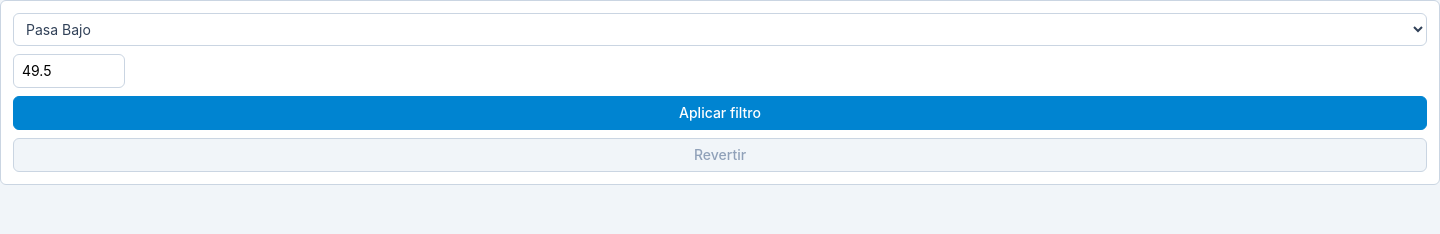
it: FilterPanel › AC-13: ingresar una ventana no entera/no positiva deshabilita "Aplicar filtro"
The image size is (1440, 234).
Step 1. Select "Media Móvil" in the dropdown named "Tipo de filtro" → (720, 30), box [13, 13, 1427, 46]
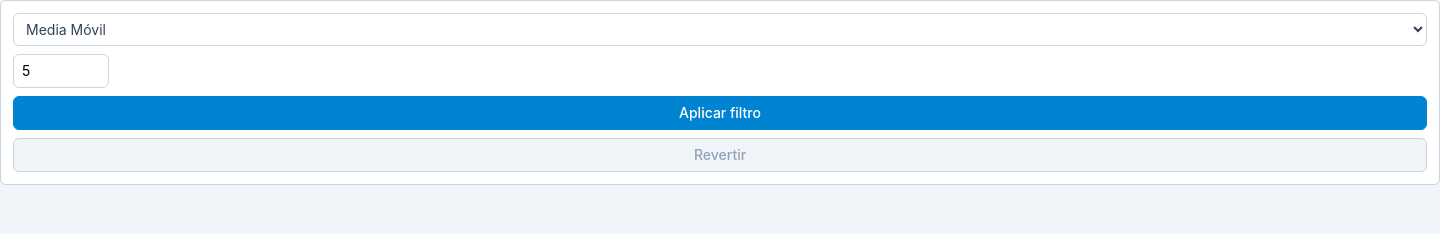
Step 2. Replace the text in the number field named "Ventana" with "0" → (61, 71), box [13, 54, 109, 88]
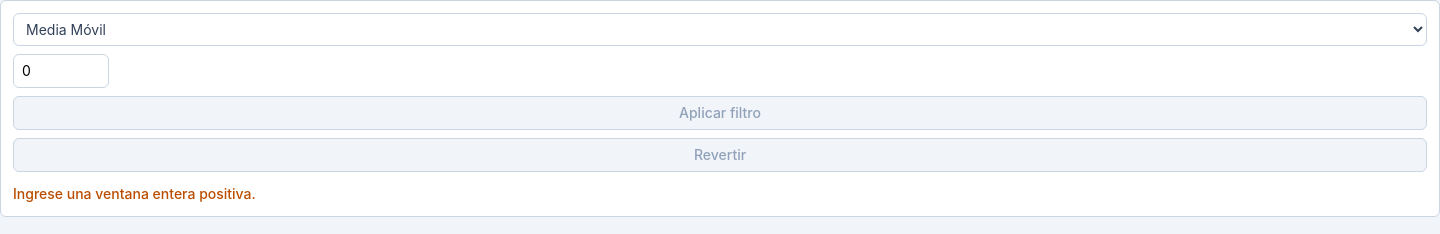
Expected: the button labelled "Aplicar filtro" is disabled, [13, 96, 1427, 130]
